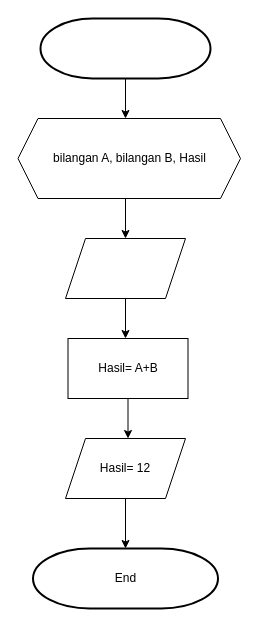
This 258x626 diagram has some shape labels left out. Each missing label, with the centre of its shape:
"input bilangan A=5, bilangan B= 7" goes at point 125,268.
"Start" goes at point 125,48.
